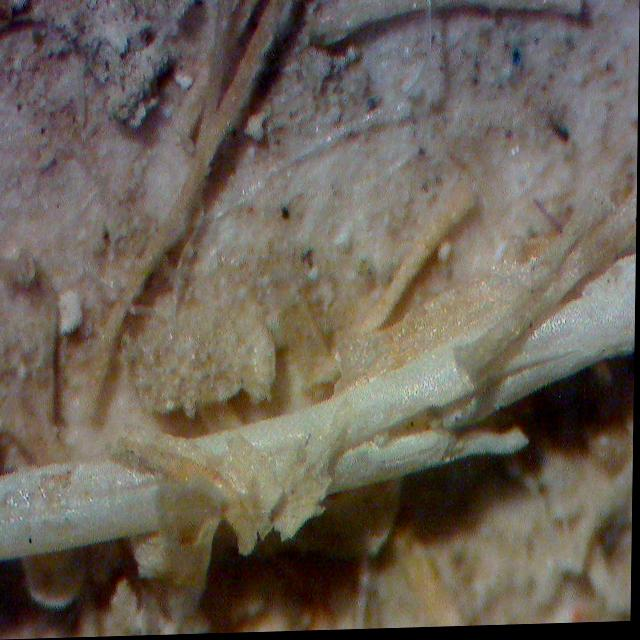microplastic: (209, 0, 476, 264)
